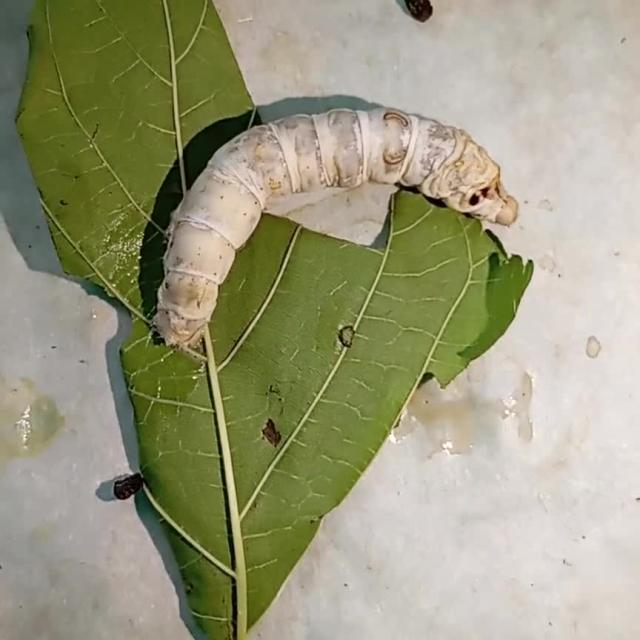Grasserie: (130, 90, 527, 363)
